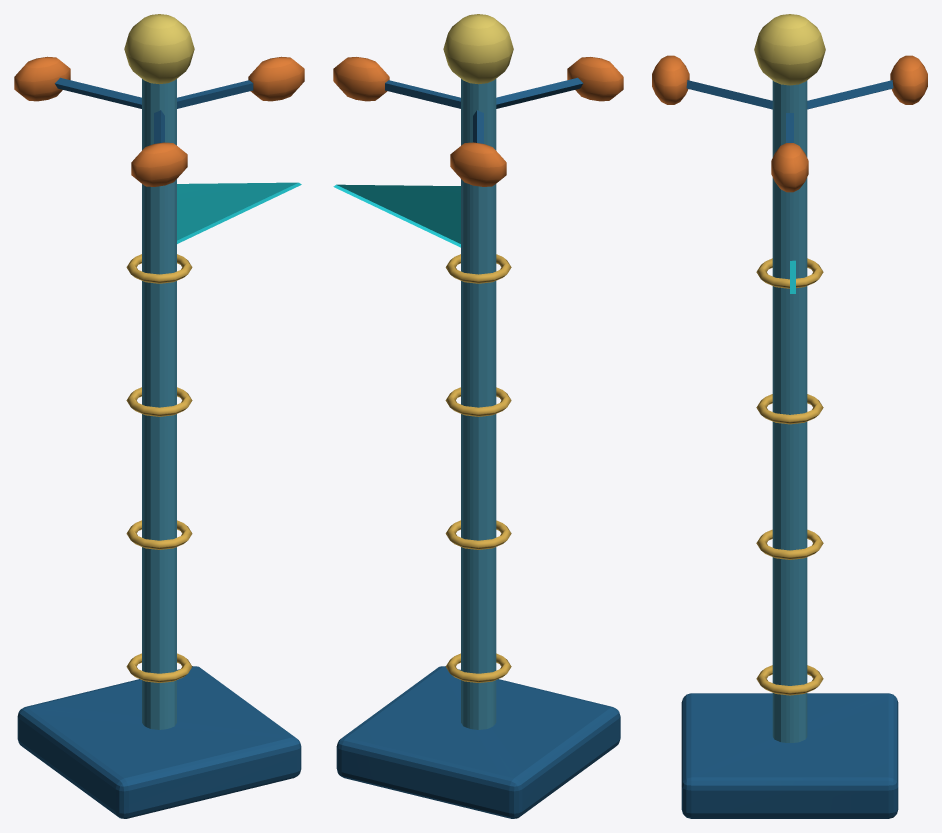
File: glacier_weather_mast_v1.glb
3 renders of one model, left to right at view 1: azimuth 30°, elevation 25°; view 2: azimuth 150°, elevation 25°; view 3: azimuth 270°, elevation 25°, orthographic.
Visible parts, largest first — view 1: glacier_weather_mast_v1; view 2: glacier_weather_mast_v1; view 3: glacier_weather_mast_v1.
Boxes of the visible parts, x1,y1,x2,y2 form: glacier_weather_mast_v1: (14, 14, 304, 818); glacier_weather_mast_v1: (333, 14, 623, 818); glacier_weather_mast_v1: (652, 14, 927, 818).
Size of the model in its own units: 1.85 by 5.6 by 1.84.
